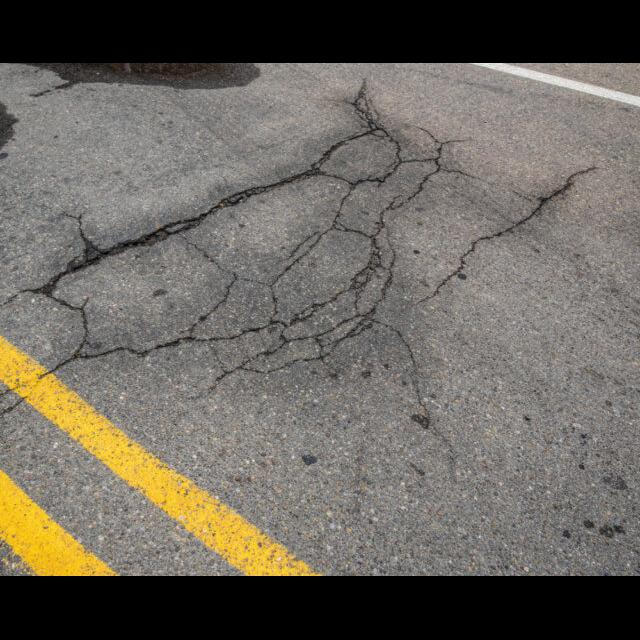retak_kulit_buaya: (14, 104, 481, 398)
